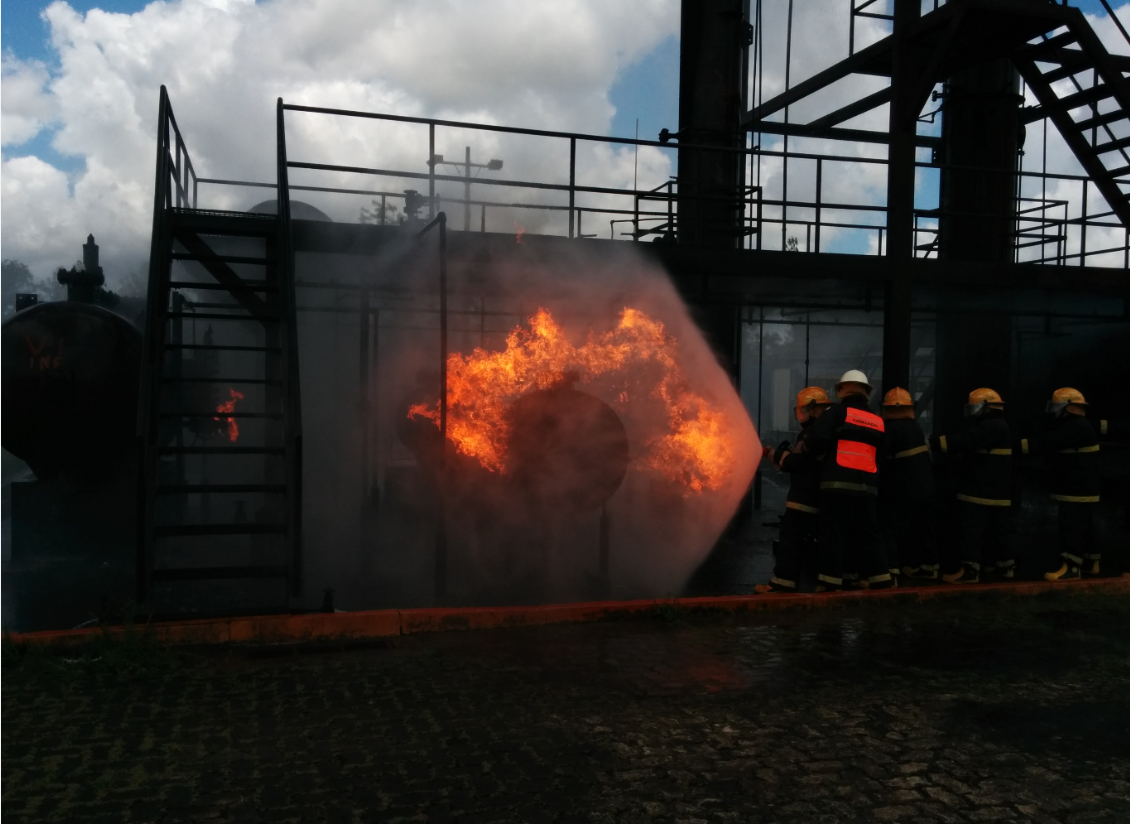喷灌水雾: (376, 242, 765, 617)
